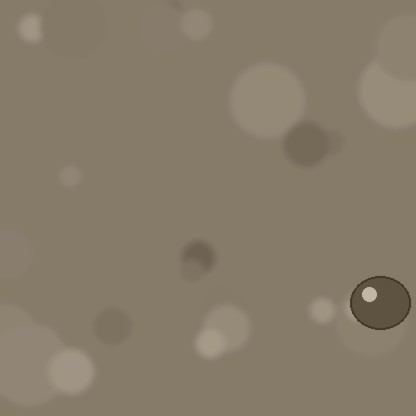gota: (350, 278, 410, 334)
